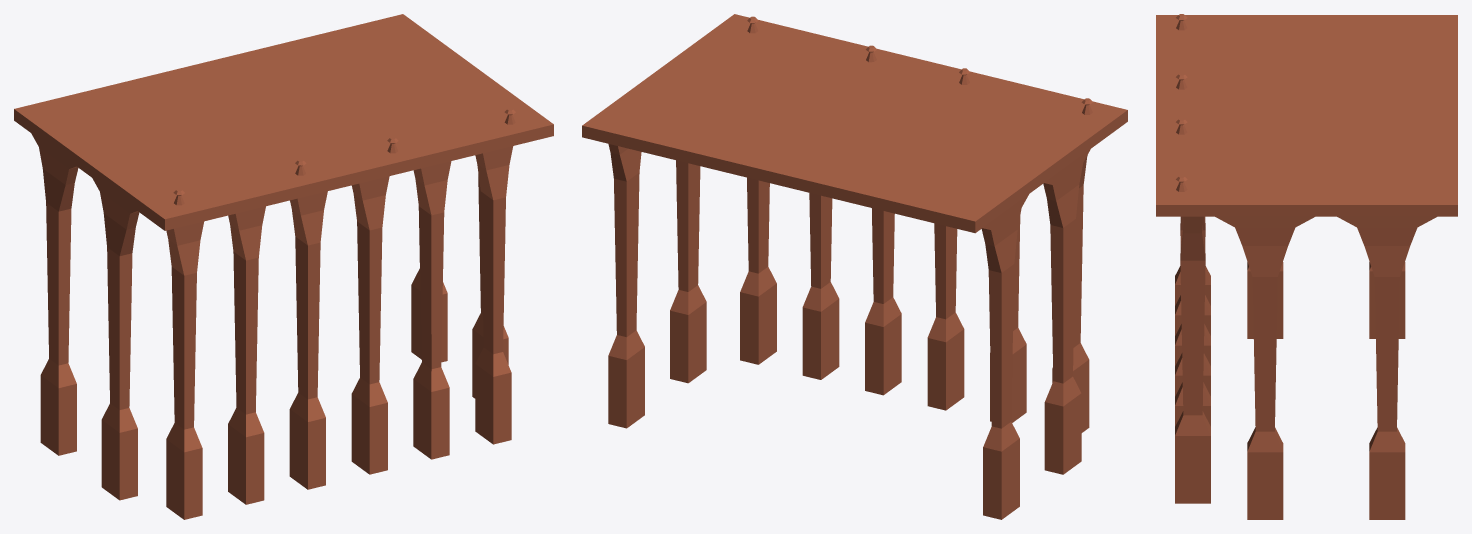
The model's file is Dock1.fbx.
The picture shows the model from 3 angles, left to right: view 1: azimuth 30°, elevation 25°; view 2: azimuth 150°, elevation 25°; view 3: azimuth 270°, elevation 25°; orthographic projection.
Parts seen in each view (by area): view 1: Pillars, Pier; view 2: Pier, Pillars; view 3: Pier, Pillars, Meerpalen.
Part boxes in pixels (x1,y1,x2,y2): Pillars: [31, 133, 513, 519]; Pier: [14, 14, 553, 230]; Pier: [582, 14, 1127, 233]; Pillars: [608, 144, 1090, 519]; Pier: [1156, 15, 1457, 216]; Pillars: [1175, 216, 1436, 519]; Meerpalen: [1176, 14, 1187, 191].
Bounding box in the file's own units: 7006 × 5633 × 4700.
